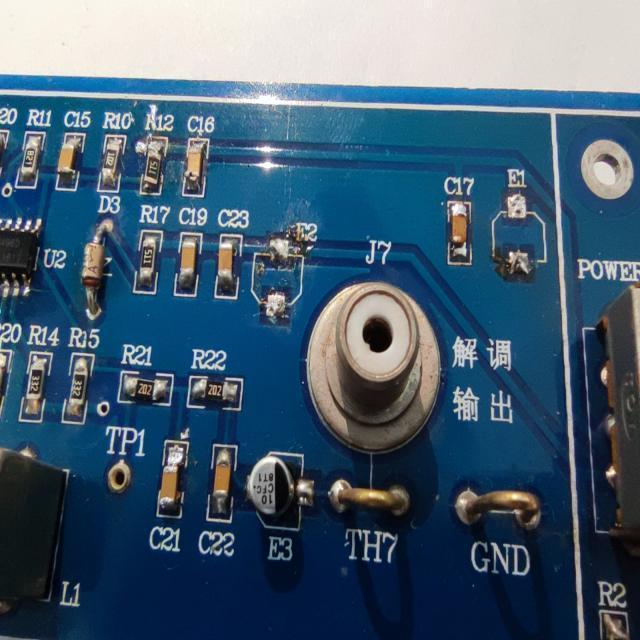Missing component: (486, 168, 550, 279), (252, 222, 316, 327)
